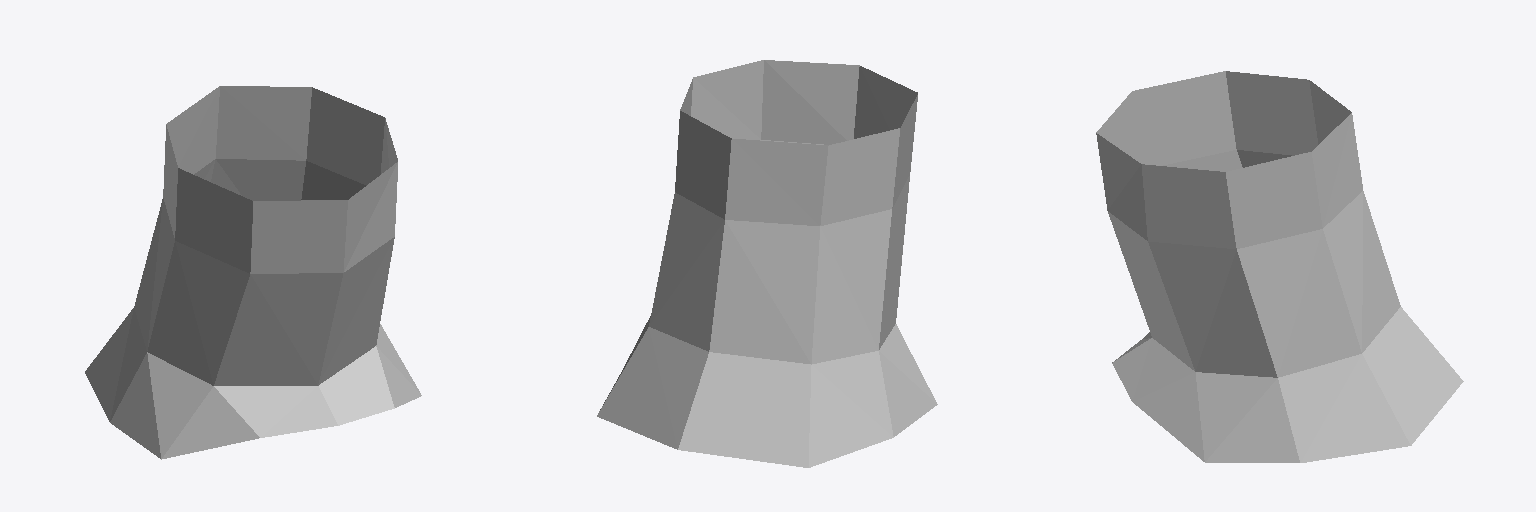
File: low_lags_R.obj
3 views of the same model, side by side, from view 1: azimuth 30°, elevation 25°; view 2: azimuth 150°, elevation 25°; view 3: azimuth 270°, elevation 25° (orthographic).
Visible parts, largest first — view 1: Meowth; view 2: Meowth; view 3: Meowth.
Part boxes in pixels (bbox=[...]): Meowth: bbox=[85, 86, 421, 459]; Meowth: bbox=[597, 60, 937, 467]; Meowth: bbox=[1096, 71, 1463, 462].
Size of the model in its own units: 3.62 by 3.66 by 4.23.